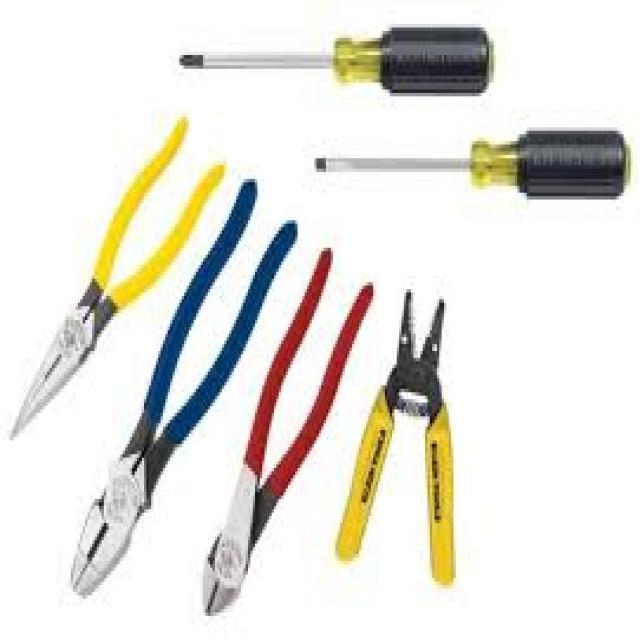pliers: (62, 168, 298, 600), (10, 107, 226, 449), (189, 238, 377, 628), (334, 282, 466, 603)
screwdriver: (305, 121, 636, 216), (172, 17, 504, 104)
